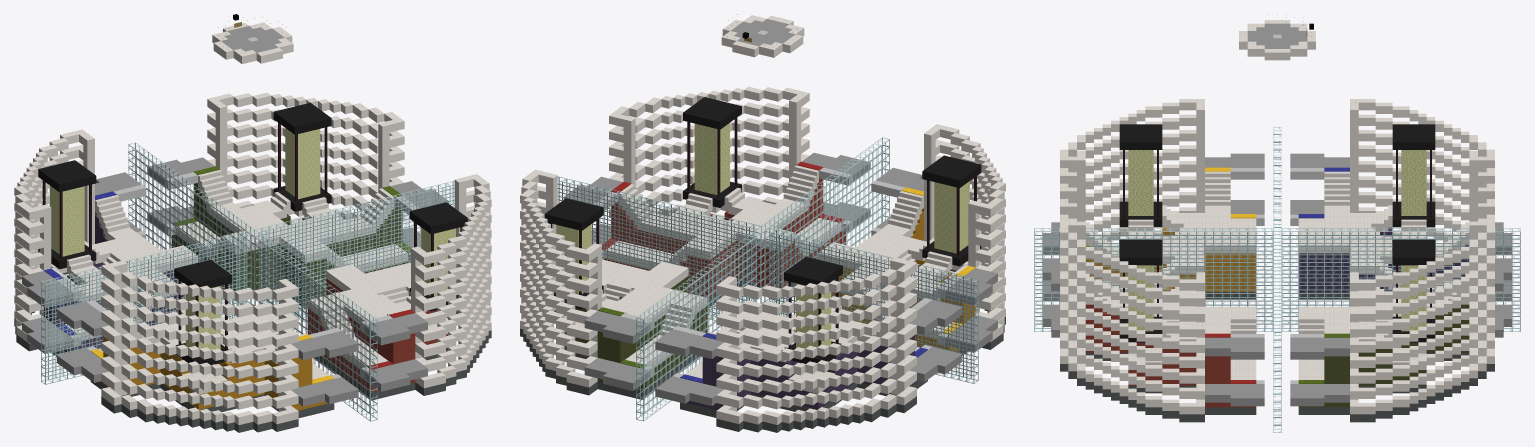
The model's file is minecraft.obj.
3 renders of one model, left to right at view 1: azimuth 30°, elevation 25°; view 2: azimuth 150°, elevation 25°; view 3: azimuth 270°, elevation 25°, orthographic.
Size of the model in its own units: 57 by 39.52 by 57.
